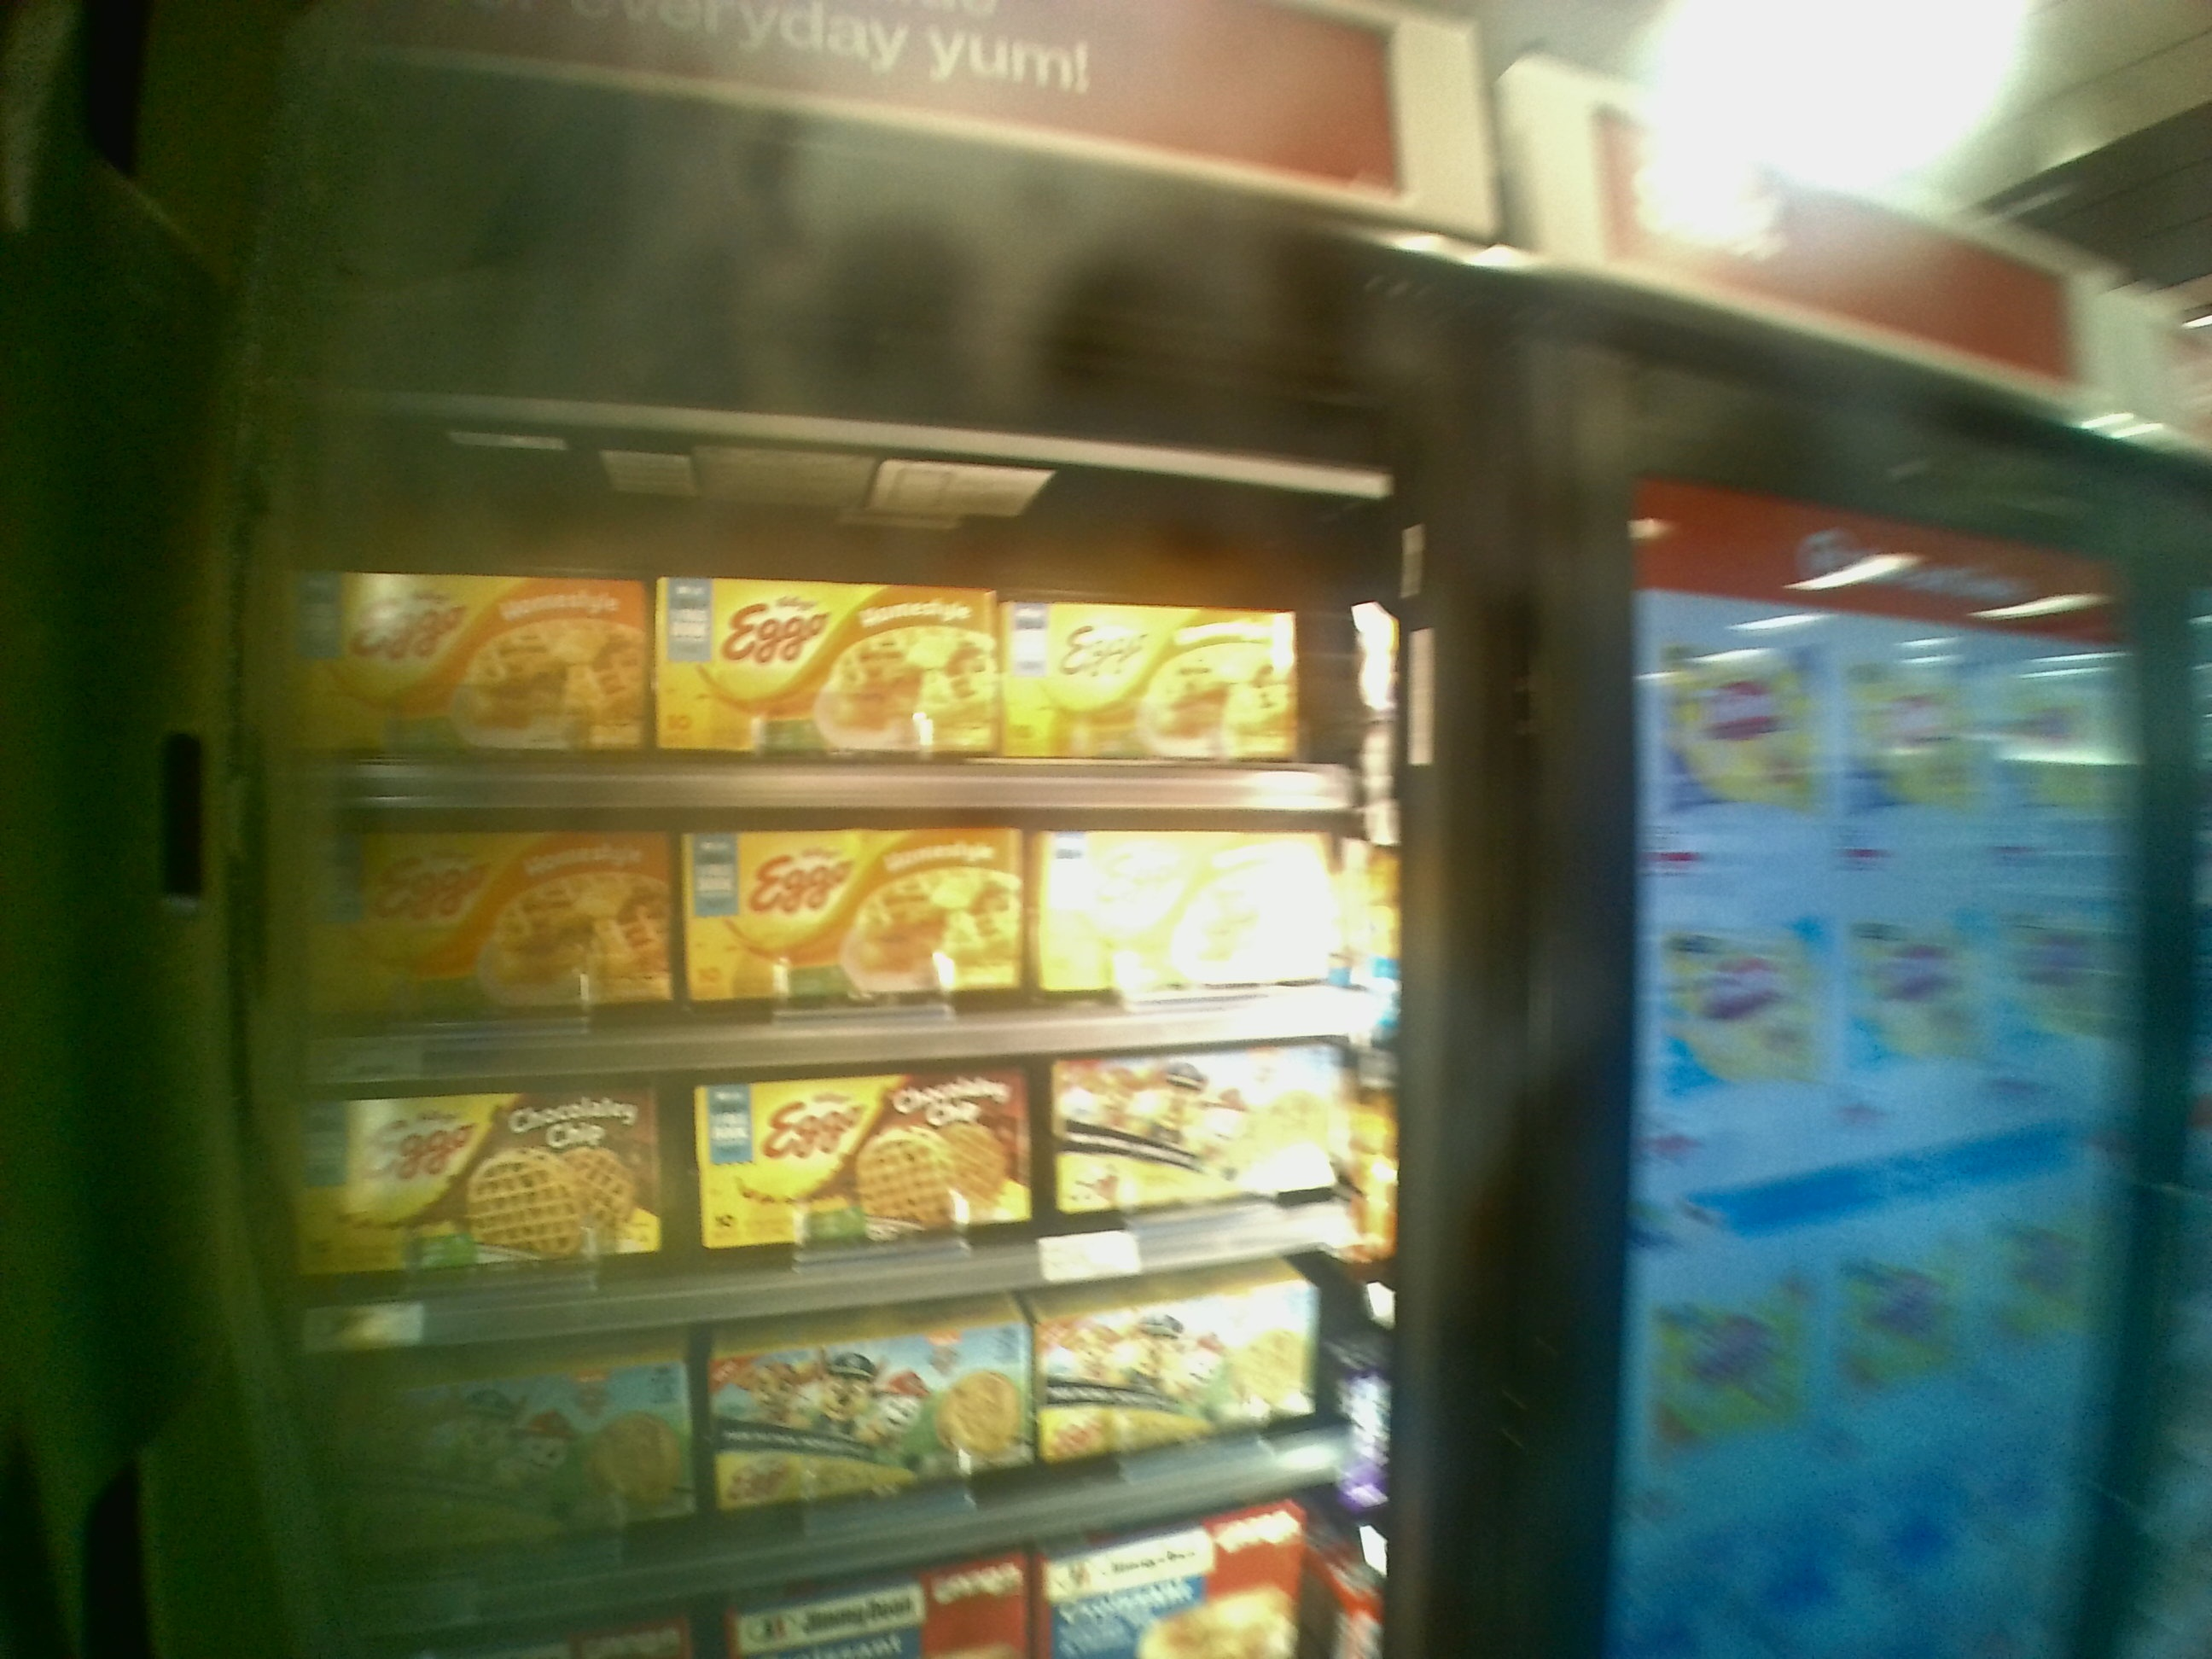shelf: (289, 486, 1371, 809), (286, 803, 1385, 1082)
